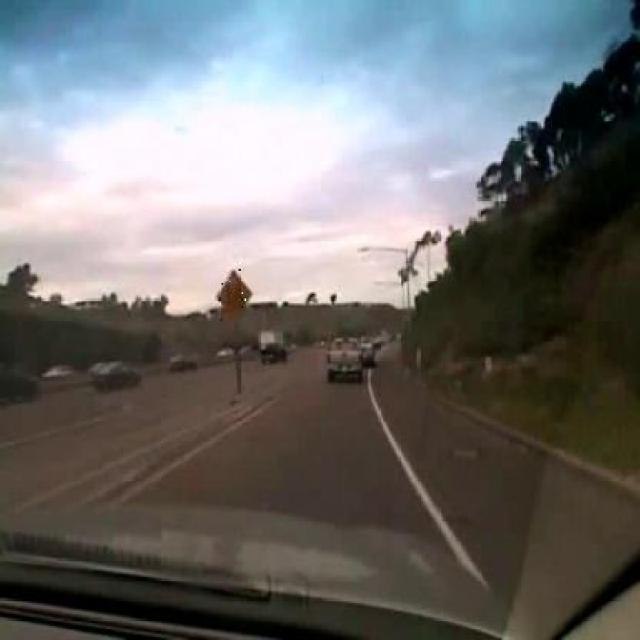addedLane: (215, 269, 252, 322)
